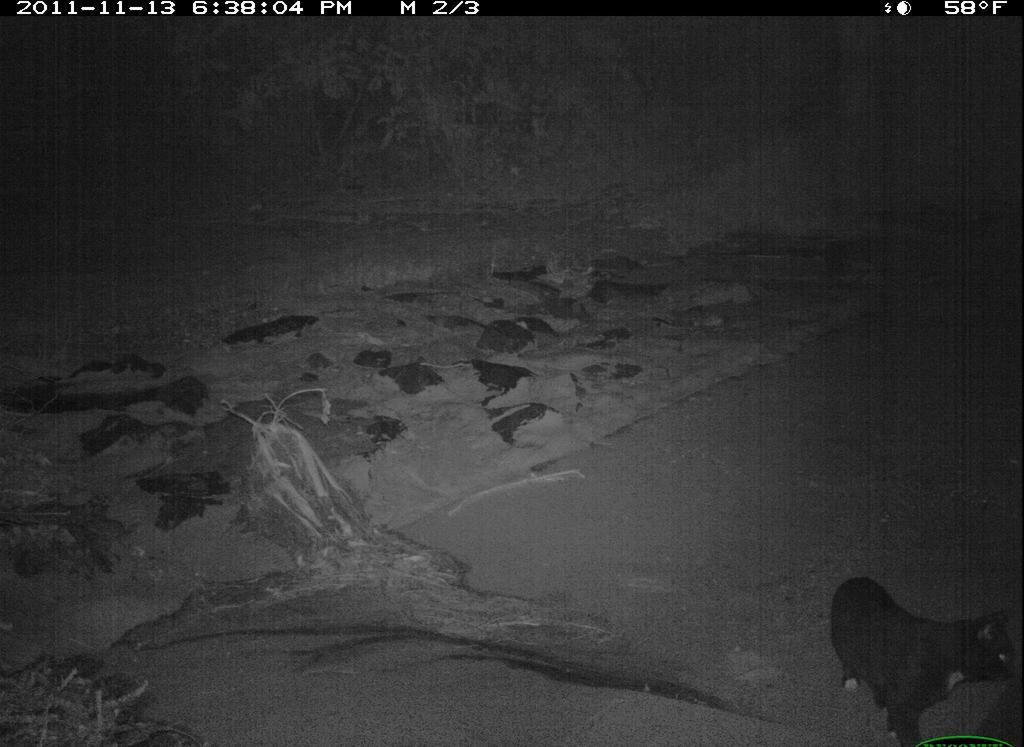cat: (826, 570, 1022, 744)
